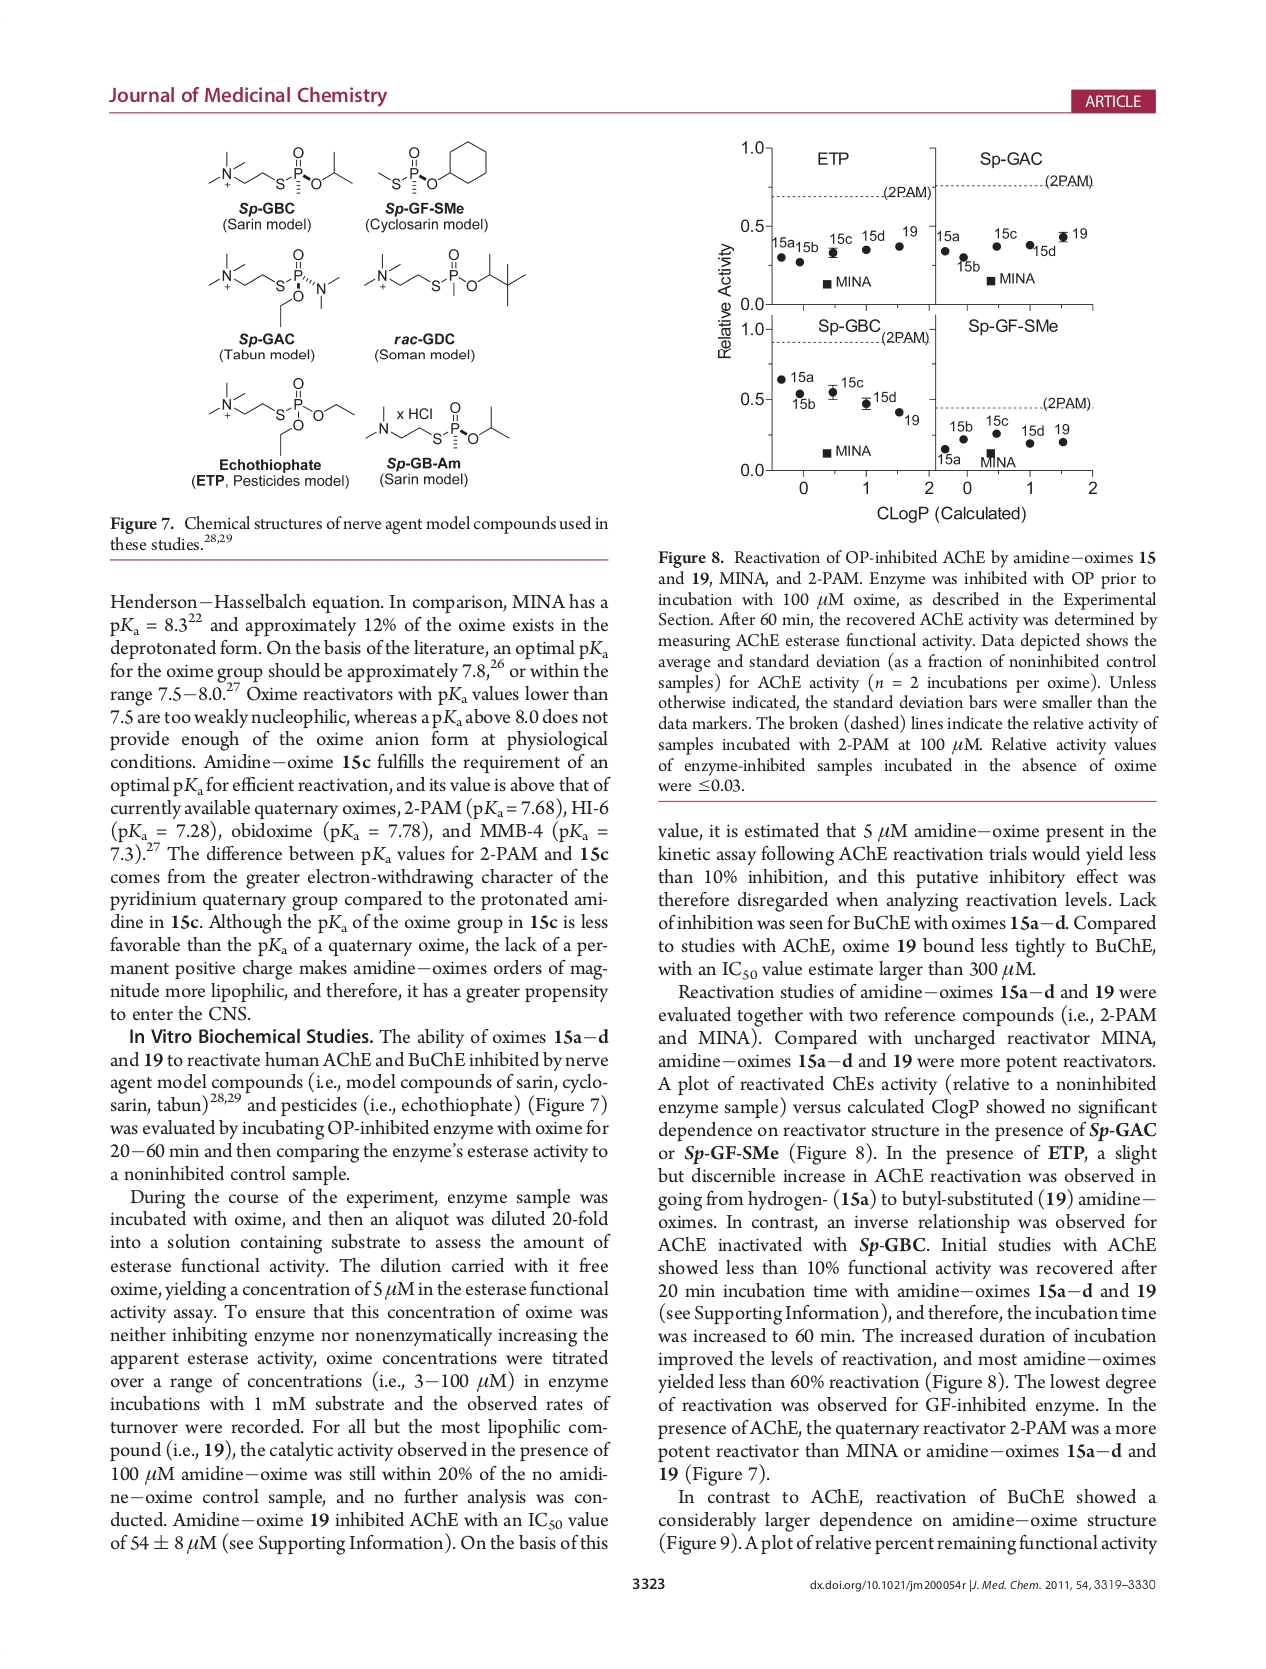exist_molecular: (203, 375, 356, 456), (203, 247, 340, 330), (358, 247, 528, 309), (360, 394, 511, 451), (207, 140, 354, 195), (375, 138, 488, 195)
